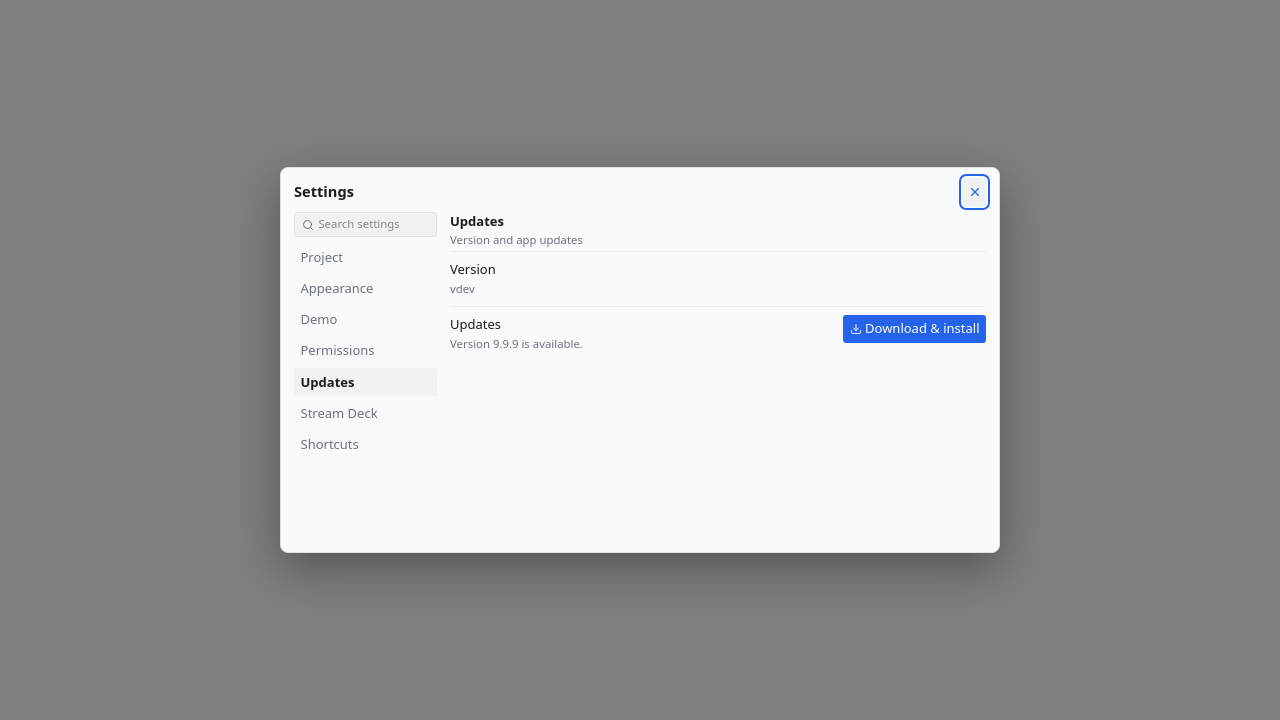
SettingsDialog › keeps install failures visible until retry
The width and height of the screenshot is (1280, 720).
Click the button with test id "settings-update-install".
click(915, 329)  # box [843,315,986,343]
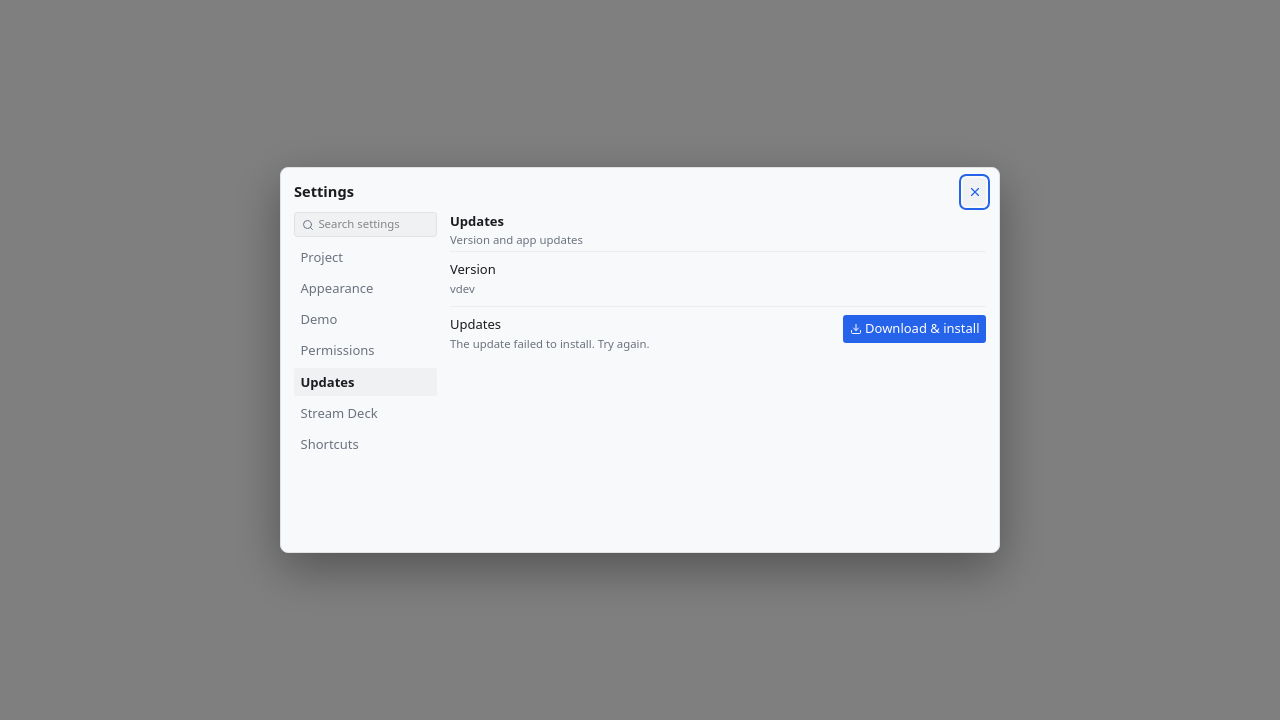
Now the text with test id "settings-update-status" shows "failed to install", box [450,336,650,351]
